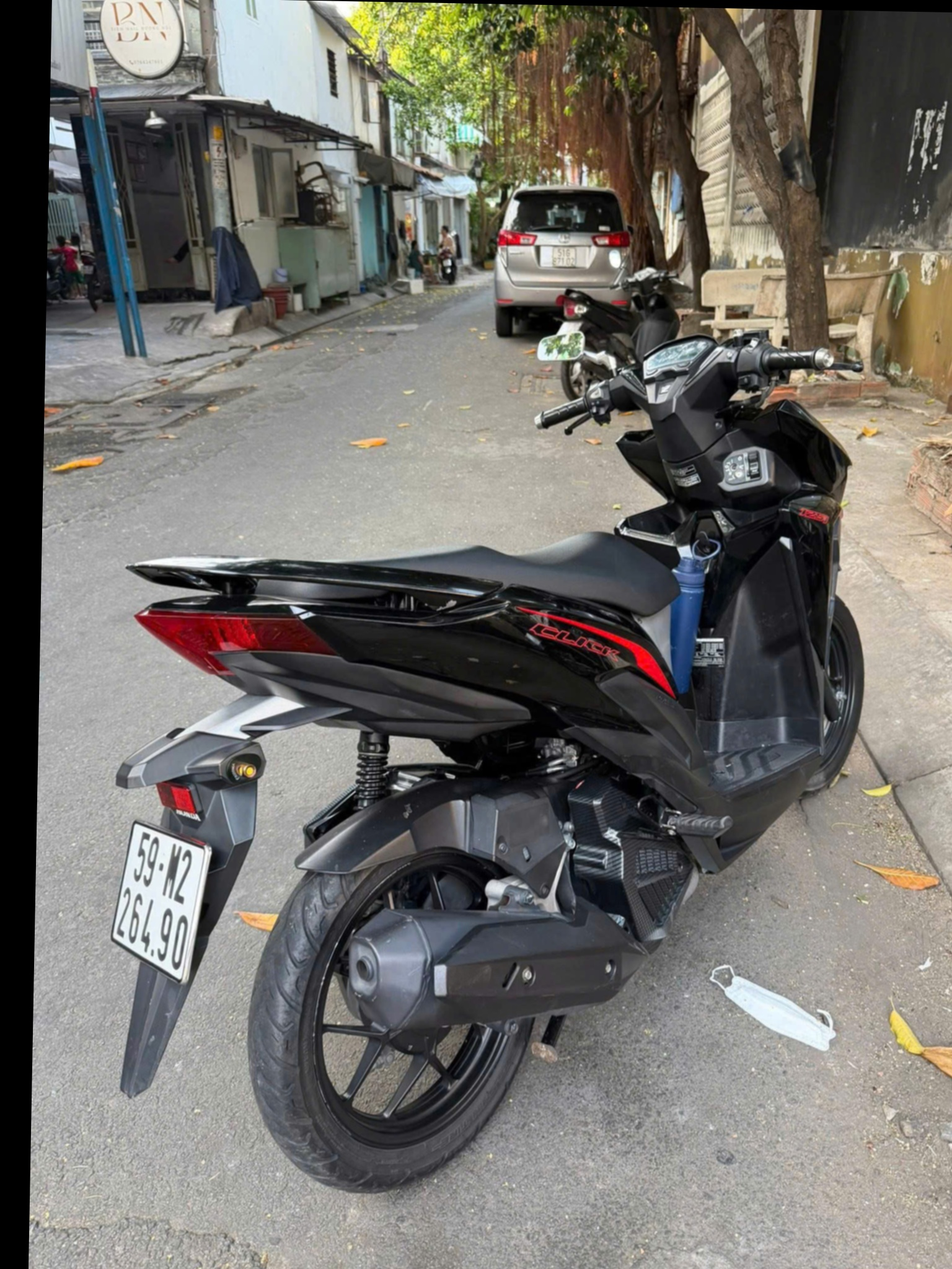Bien-so: (107, 818, 210, 998), (554, 243, 580, 269)
